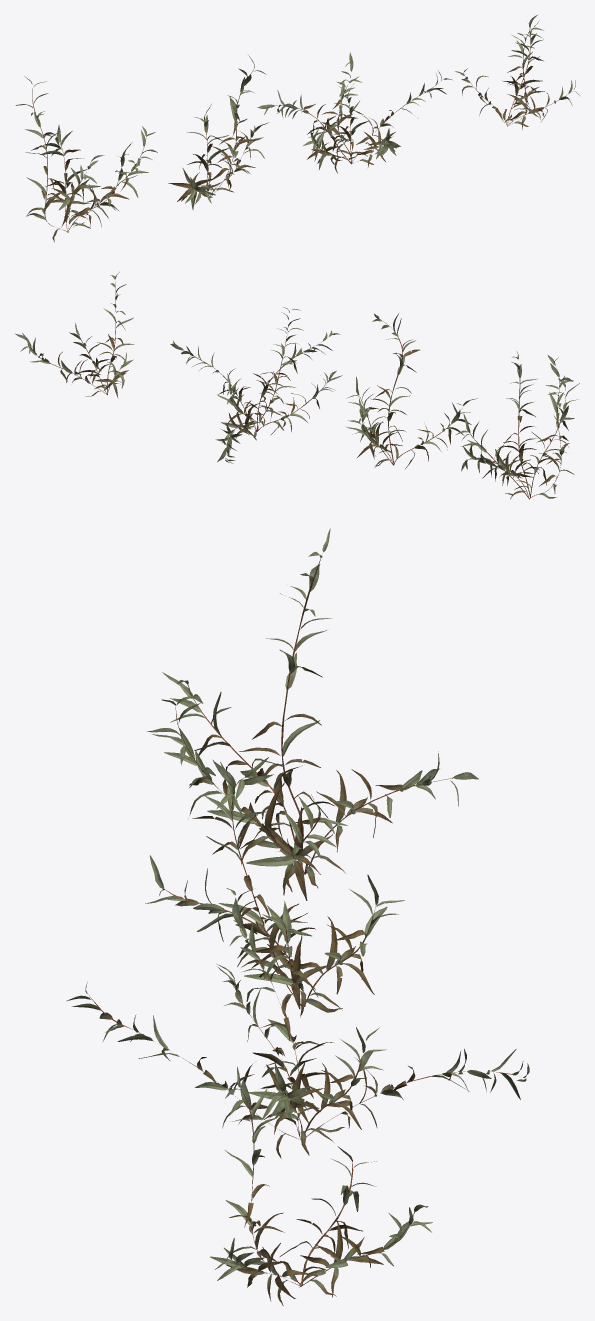
File: shrub_02.glb
The picture shows the model from 3 angles, top to bottom: view 1: azimuth 30°, elevation 25°; view 2: azimuth 150°, elevation 25°; view 3: azimuth 270°, elevation 25°; orthographic projection. The views are drawn at different scales.
Parts seen in each view (by area): view 1: shrub_02_a, shrub_02_c, shrub_02_b, shrub_02_d; view 2: shrub_02_a, shrub_02_c, shrub_02_b, shrub_02_d; view 3: shrub_02_a, shrub_02_c, shrub_02_b, shrub_02_d.
Part boxes in pixels (bbox=[...]): shrub_02_a: bbox=[15, 76, 157, 242]; shrub_02_c: bbox=[257, 52, 451, 173]; shrub_02_b: bbox=[168, 55, 268, 209]; shrub_02_d: bbox=[455, 15, 580, 129]; shrub_02_a: bbox=[456, 351, 579, 499]; shrub_02_c: bbox=[170, 307, 342, 463]; shrub_02_b: bbox=[345, 313, 477, 468]; shrub_02_d: bbox=[15, 272, 134, 398]; shrub_02_a: bbox=[146, 528, 478, 900]; shrub_02_c: bbox=[66, 888, 529, 1158]; shrub_02_b: bbox=[145, 757, 404, 1017]; shrub_02_d: bbox=[210, 1066, 432, 1305].
Bounding box in the file's own units: 6.05 × 1.7 × 2.29.
1 material, 1 textured.
